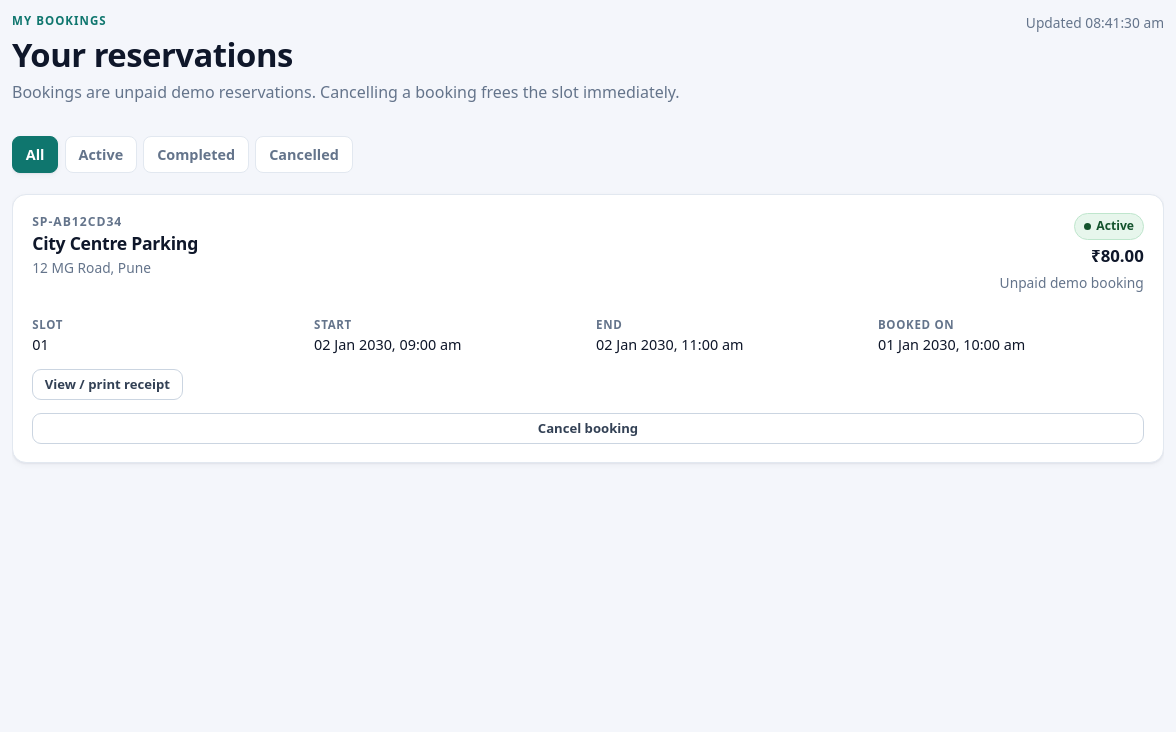
Scenario: cancellation flow › keeps the booking active and shows the error when cancellation fails
This screenshot has width=1176, height=732.
Click the button "Cancel booking": (588, 429) [32,413,1144,444]
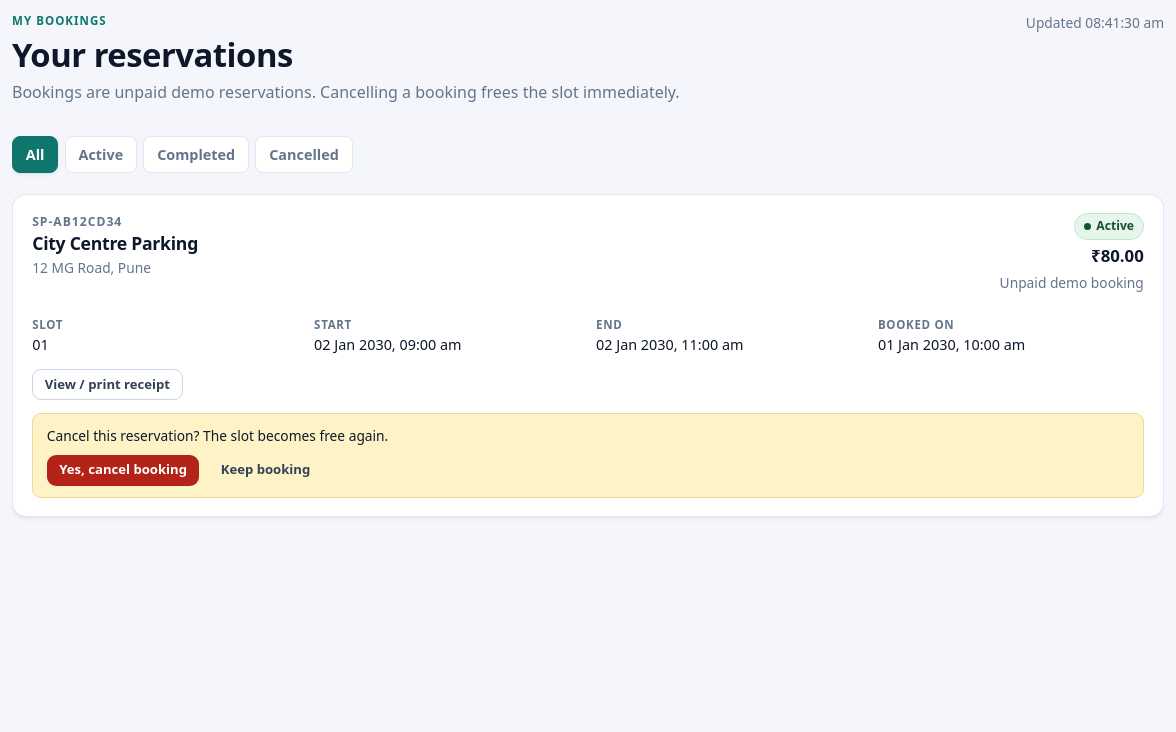
Click the button "Yes, cancel booking": (123, 470) [47,454,200,486]
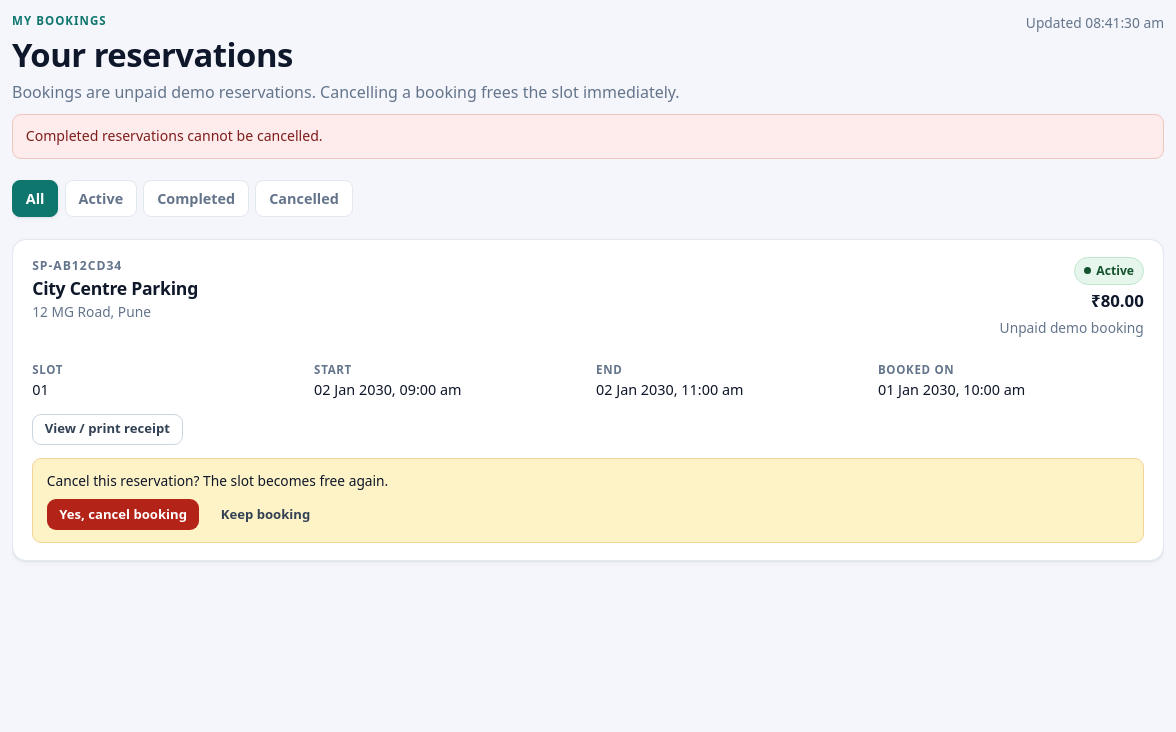
Expected: the text "Active" is shown, [1074,257,1144,284]
Now the message shows "cannot be cancelled", box [26,126,323,145]
